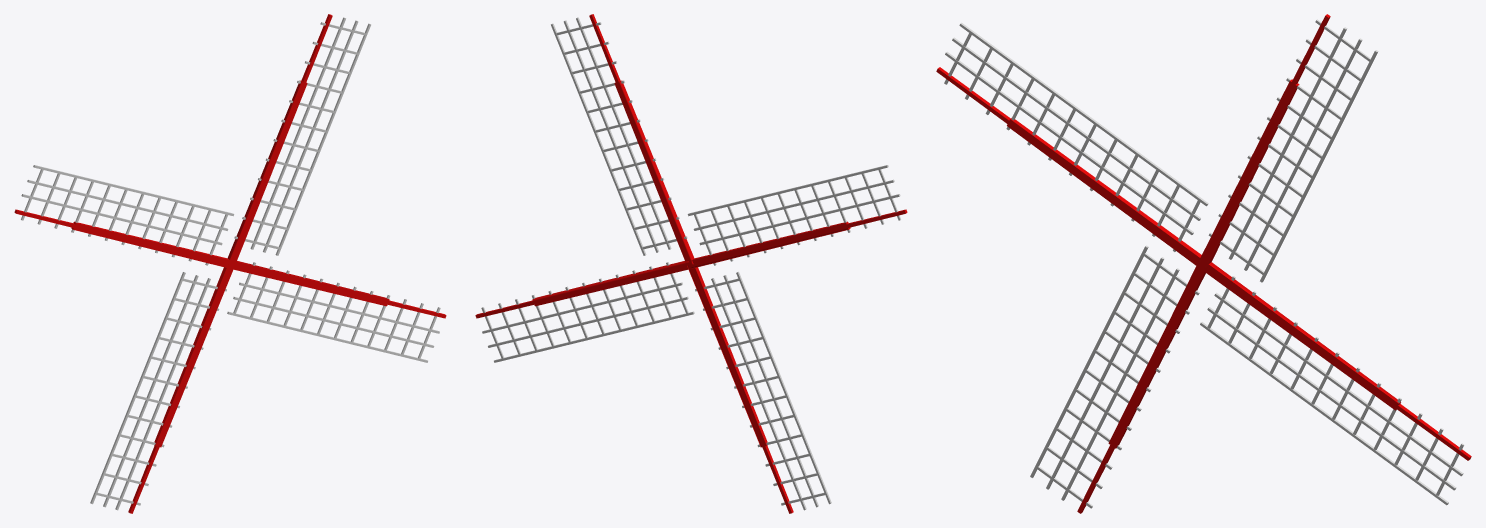
Rendered from wing.fbx.
3 renders of one model, left to right at view 1: azimuth 30°, elevation 25°; view 2: azimuth 150°, elevation 25°; view 3: azimuth 330°, elevation 25°, orthographic. The views are drawn at different scales.
Parts seen in each view (by area): view 1: polySurface28, polySurface2, polySurface60, polySurface31, polySurface61, polySurface32, polySurface30, polySurface62, polySurface45, polySurface6, polySurface46, polySurface47 (+2 smaller); view 2: polySurface28, polySurface2, polySurface60, polySurface30, polySurface31, polySurface32, polySurface62, polySurface61, polySurface45, polySurface6, polySurface4, polySurface46 (+2 smaller); view 3: polySurface2, polySurface28, polySurface45, polySurface5, polySurface6, polySurface4, polySurface46, polySurface47, polySurface30, polySurface61, polySurface32, polySurface60 (+2 smaller).
Part boxes in pixels (x1,y1,x2,y2): polySurface28: (128,14,332,513); polySurface2: (14,209,446,318); polySurface60: (90,272,185,504); polySurface31: (263,20,358,252); polySurface61: (103,275,198,507); polySurface32: (250,17,345,249); polySurface30: (275,23,370,255); polySurface62: (115,278,210,510); polySurface45: (33,165,234,216); polySurface6: (239,282,439,333); polySurface46: (27,179,228,230); polySurface47: (21,194,222,245); polySurface28: (589,14,793,513); polySurface2: (475,209,907,318); polySurface60: (736,272,831,504); polySurface30: (551,23,646,255); polySurface31: (563,20,658,252); polySurface32: (576,17,671,249); polySurface62: (711,278,806,510); polySurface61: (723,275,818,507); polySurface45: (687,165,888,216); polySurface6: (482,282,682,333); polySurface4: (494,311,694,362); polySurface46: (693,179,894,230); polySurface2: (936,67,1471,460); polySurface28: (1077,14,1330,513); polySurface45: (959,22,1208,206); polySurface5: (1207,307,1456,490); polySurface6: (1214,292,1463,476); polySurface4: (1200,322,1448,505); polySurface46: (952,37,1200,220); polySurface47: (945,51,1193,234); polySurface30: (1260,50,1378,282); polySurface61: (1046,257,1164,489); polySurface32: (1228,27,1346,259); polySurface60: (1030,245,1148,477).
Size of the model in its own units: 1331 by 1331 by 13.
